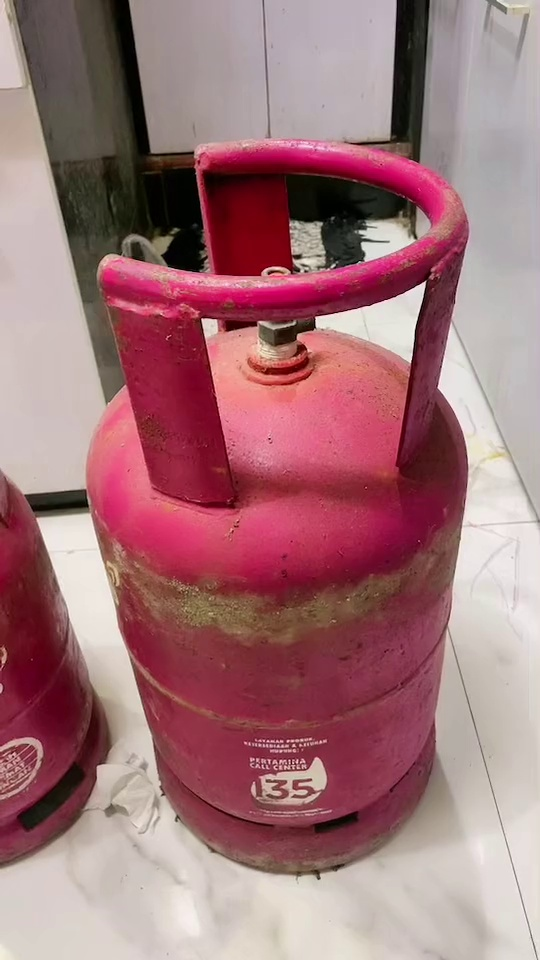bright_gas: (89, 140, 470, 874), (3, 466, 114, 880)
